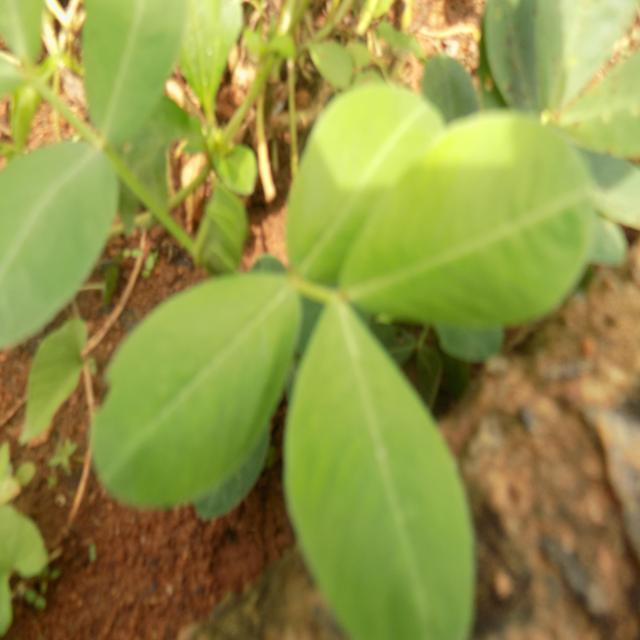Ground nut_healthy: (277, 288, 483, 640), (338, 111, 598, 328)
